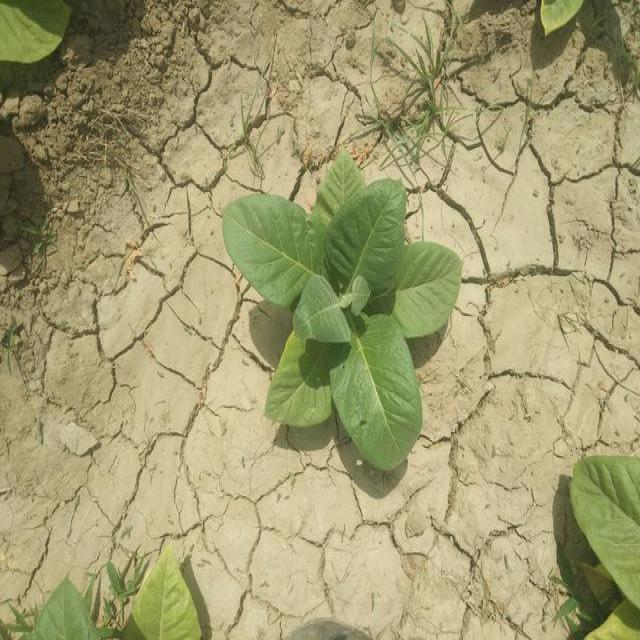crop: (213, 154, 464, 472), (546, 464, 640, 640), (122, 552, 218, 640), (30, 580, 132, 640), (0, 0, 73, 66), (548, 0, 592, 33)
